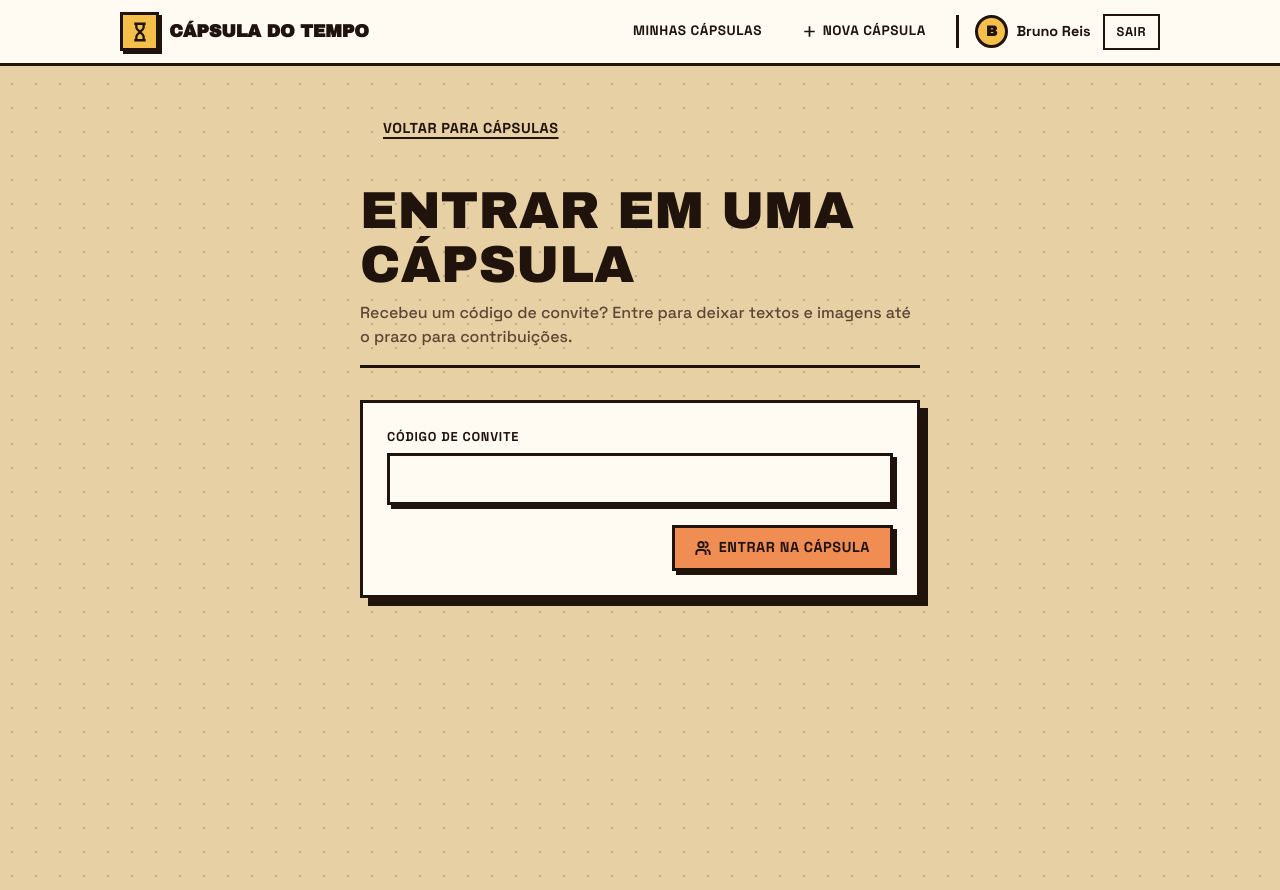
EntrarCapsulaPage (/capsulas/entrar) › valid code › trims the code, joins and opens the capsule detail
Type "  ABC123 " into the field labelled "Código de convite" at {"x": 640, "y": 479}, box [387,453,893,505]
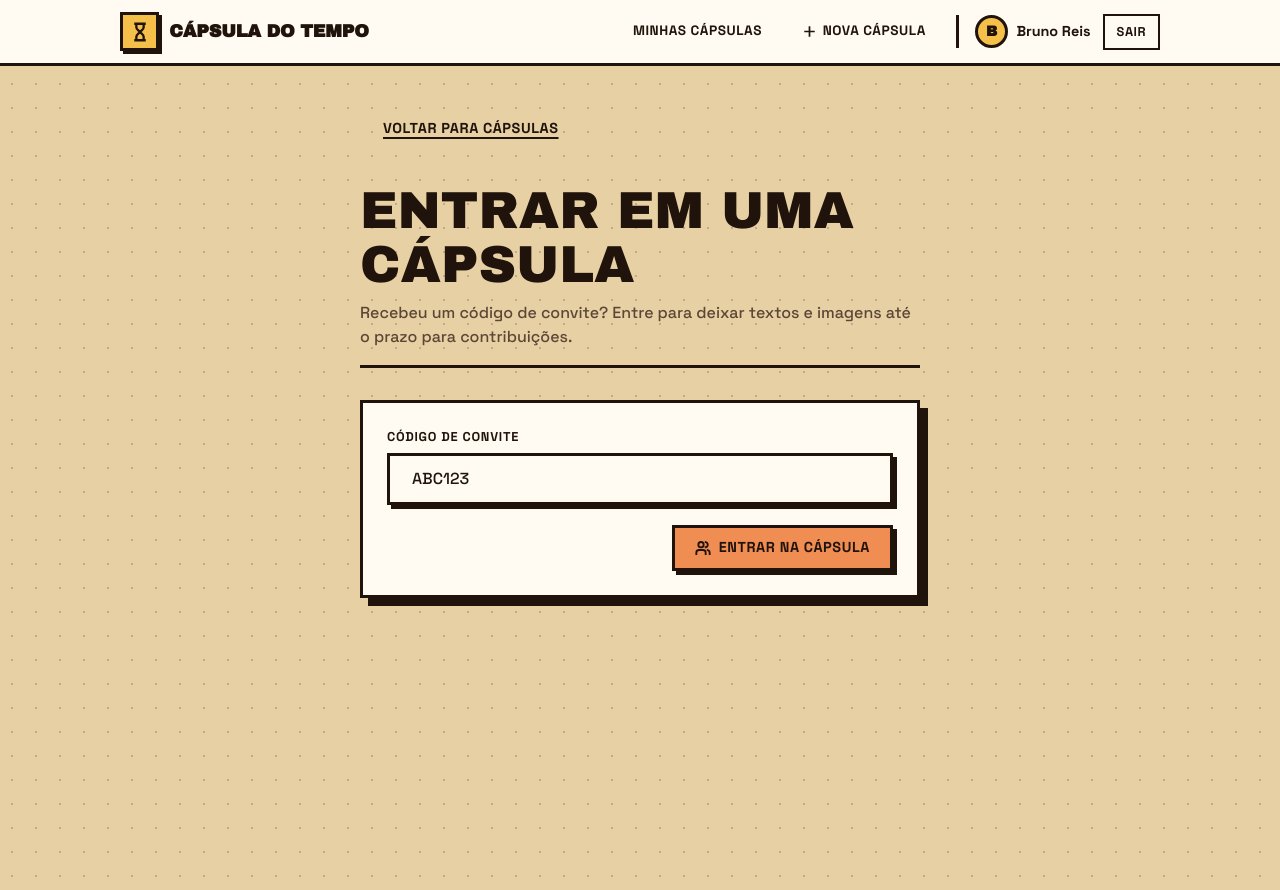
Click the button "Entrar na cápsula" at {"x": 782, "y": 548}, box [672,525,893,571]
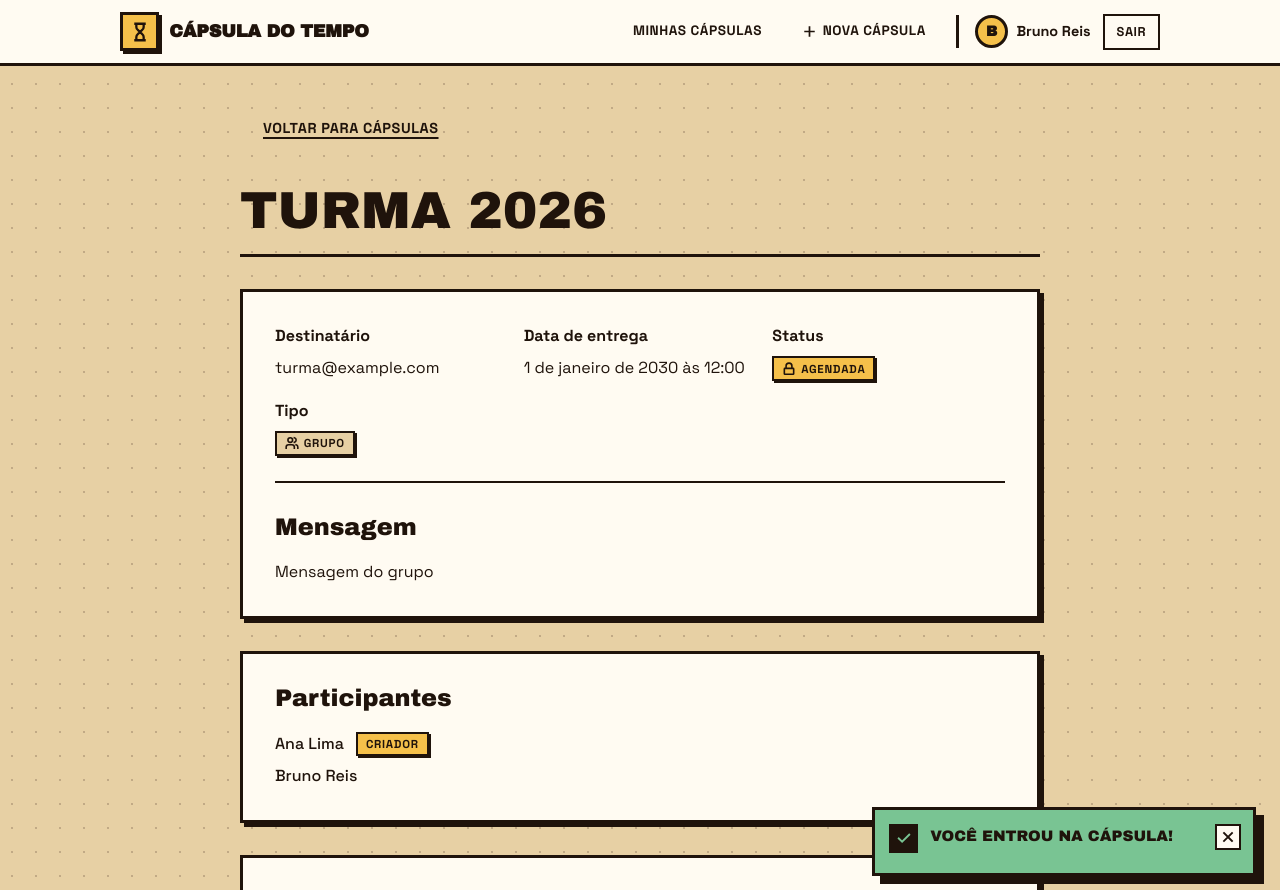
Now the heading "Turma 2026" is shown, box [240,184,607,238]
Now the text "Você entrou na cápsula!" is shown, box [930,825,1203,848]
